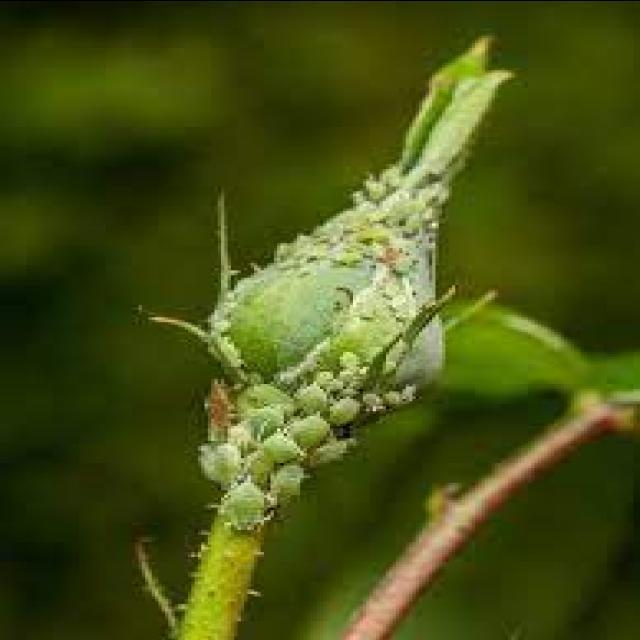aphid: (208, 477, 274, 541), (260, 455, 316, 509), (280, 408, 336, 458), (195, 440, 248, 492), (250, 428, 310, 470), (320, 393, 366, 430), (303, 440, 353, 472), (290, 380, 326, 420), (330, 346, 366, 376), (382, 252, 416, 279), (376, 388, 412, 412), (350, 302, 380, 324), (347, 227, 372, 247), (337, 249, 362, 267)
